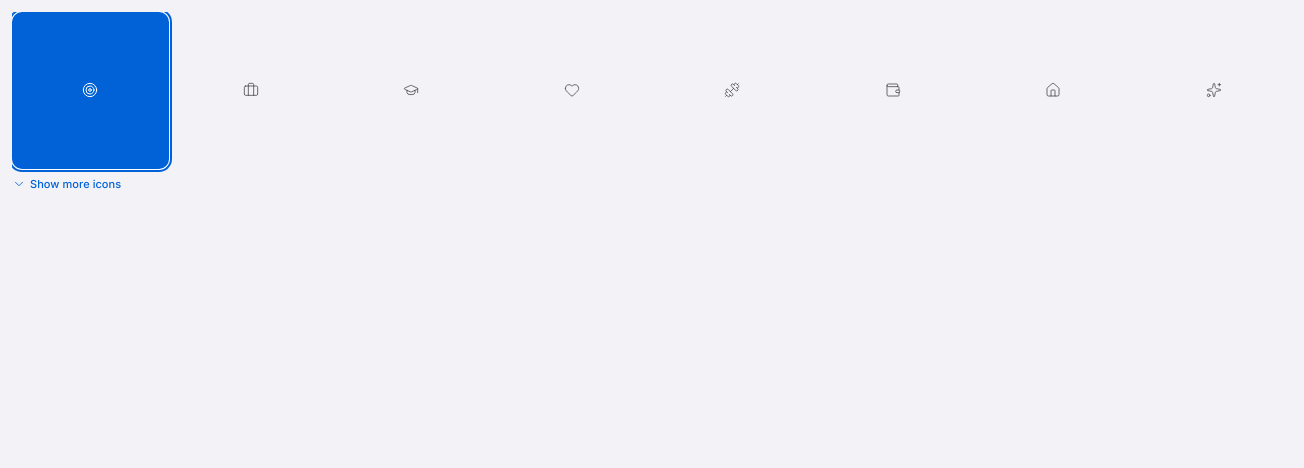
Test case: icon picker › collapses again on request
Click the button "Show more icons". click: [67, 184]
box: [12,176,121,190]
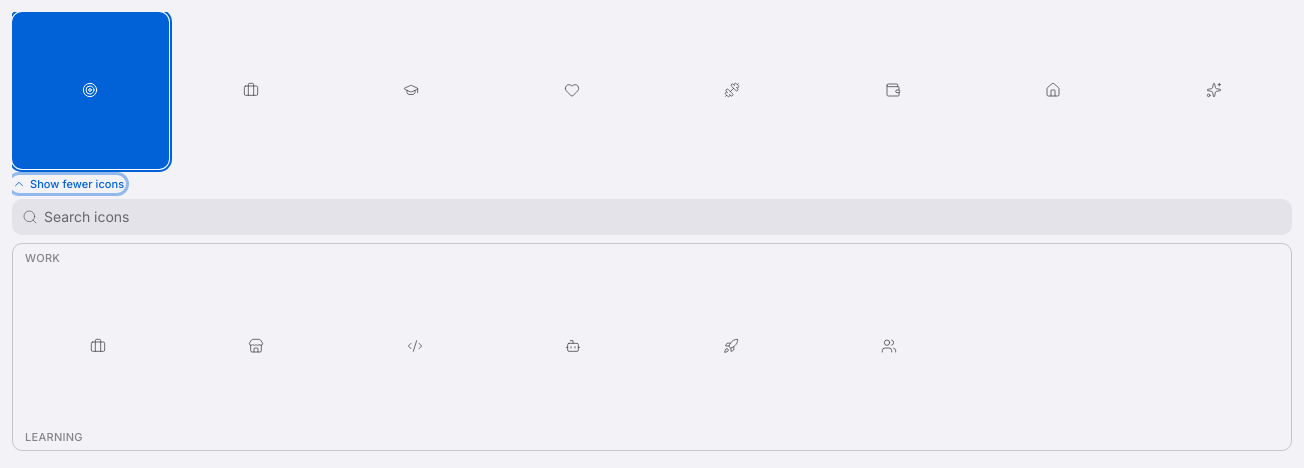
Check: the search field labelled "Search icons" is shown, box [12,198,1292,234]
Click the button "Show fewer icons". click: [68, 184]
box: [12,176,124,190]
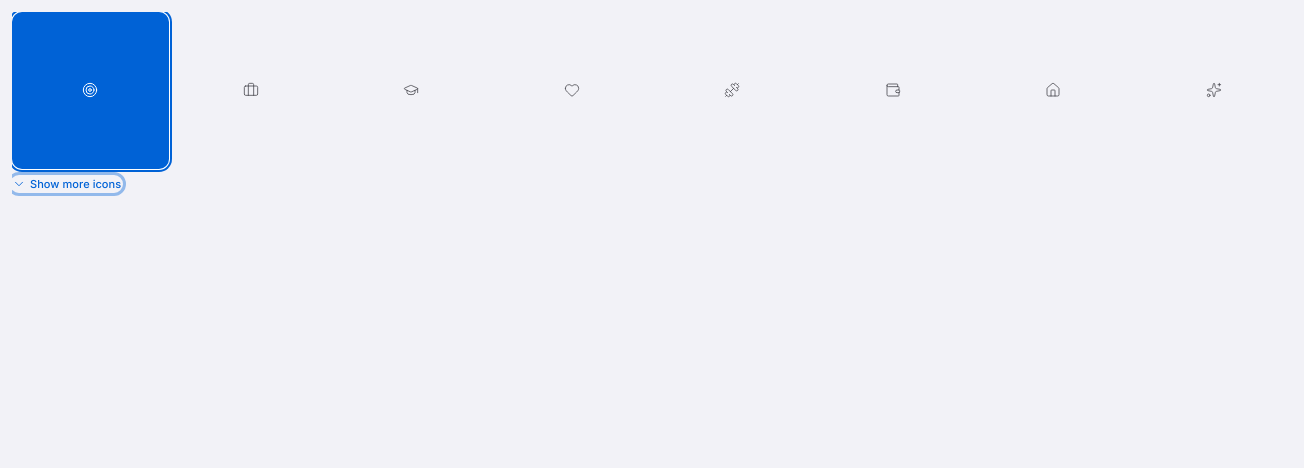
Check: the search field labelled "search icons" is not shown
Check: the text "Work" is gone
